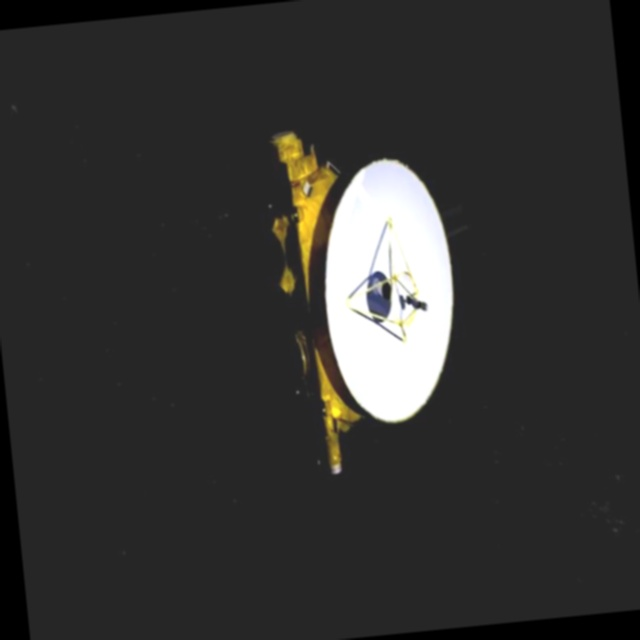satellite: (256, 101, 469, 499)
